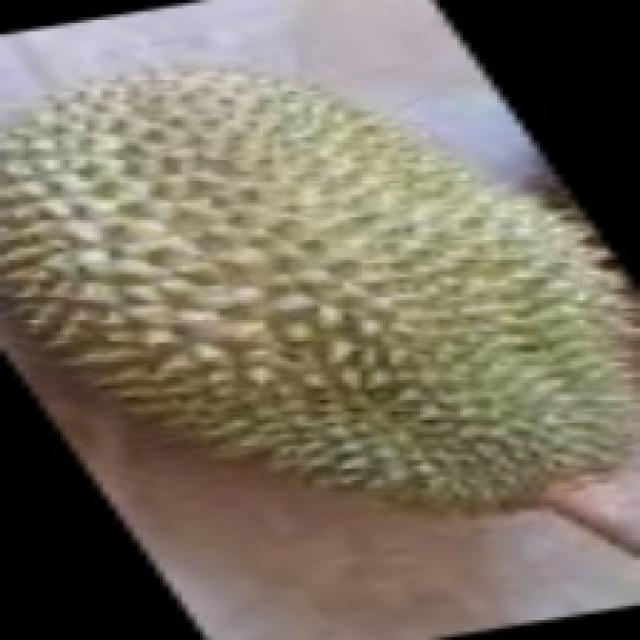d2: (6, 75, 640, 556)
